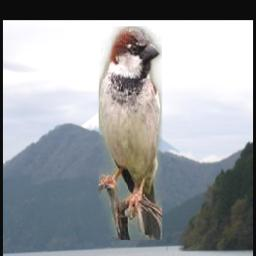Sparrow: (98, 26, 161, 240)
